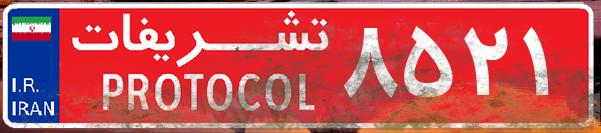1: (520, 20, 580, 115)
2: (460, 20, 520, 115)
5: (400, 20, 460, 115)
8: (340, 20, 400, 115)
تشریفات: (60, 8, 340, 125)
